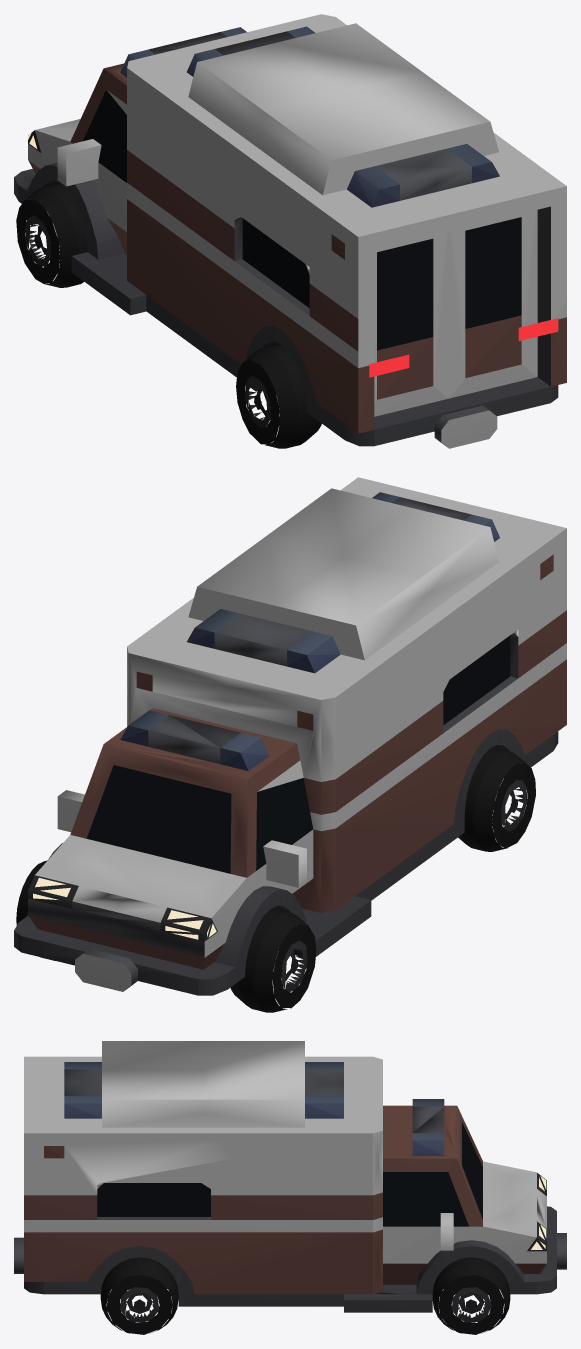
The model's file is ov_ambulance.glb.
3 renders of one model, top to bottom at view 1: azimuth 30°, elevation 25°; view 2: azimuth 150°, elevation 25°; view 3: azimuth 270°, elevation 25°, orthographic. The views are drawn at different scales.
Parts seen in each view (by area): view 1: Body, WheelRL, WheelFL; view 2: Body, WheelFL, WheelRL; view 3: Body, WheelFR, WheelRR.
Boxes of the visible parts, left/top/right/bottom form: Body: left=14, top=14, right=566, bottom=448; WheelRL: left=236, top=345, right=321, bottom=448; WheelFL: left=16, top=184, right=87, bottom=287; Body: left=14, top=477, right=566, bottom=995; WheelFL: left=230, top=909, right=316, bottom=1012; WheelRL: left=458, top=748, right=535, bottom=851; Body: left=14, top=1041, right=566, bottom=1312; WheelFR: left=432, top=1258, right=510, bottom=1334; WheelRR: left=100, top=1258, right=178, bottom=1334.
Size of what is drawn, in the model's own units: 2.18 by 2.4 by 5.4.
